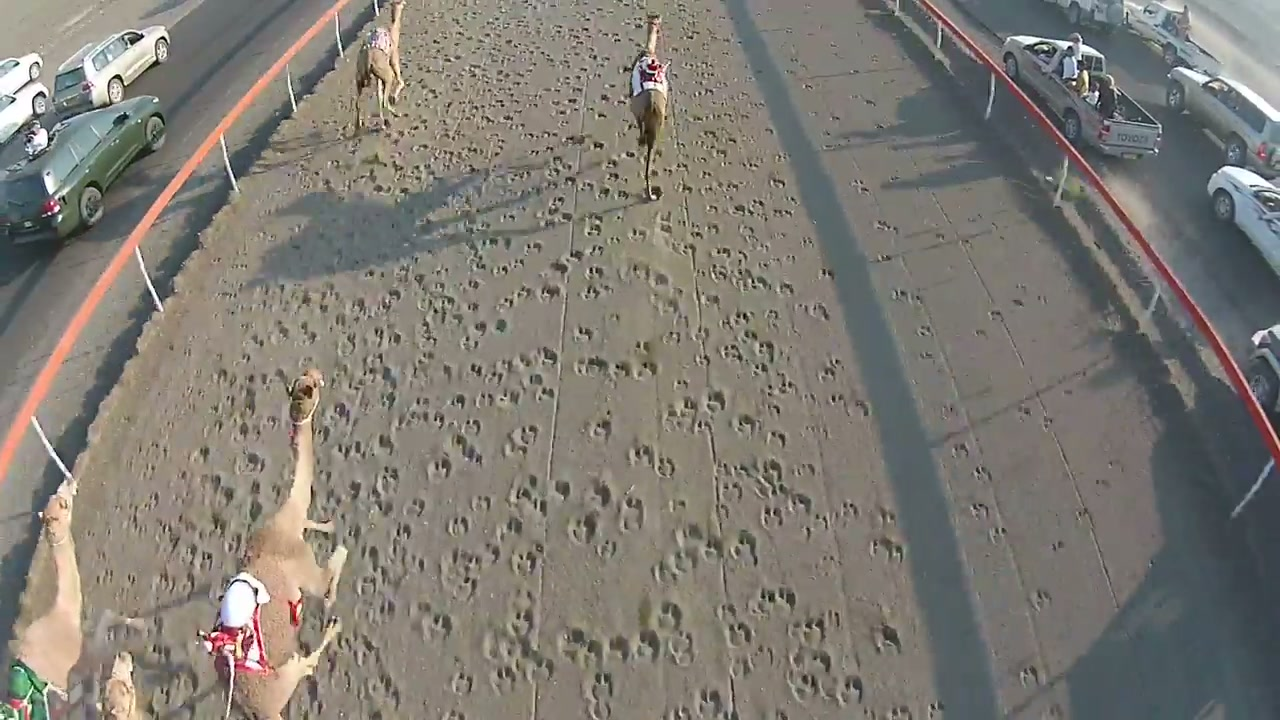animal_footprint: (84, 0, 926, 719), (481, 589, 556, 694)
